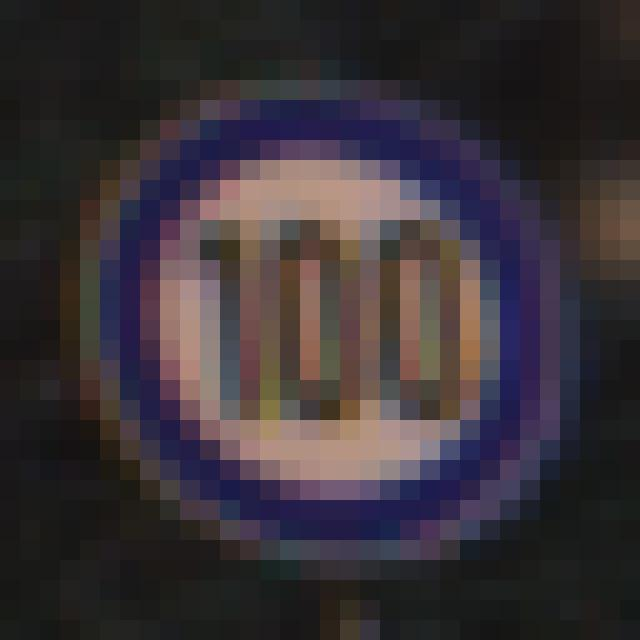SPEED LIMIT 100: (80, 85, 556, 571)
